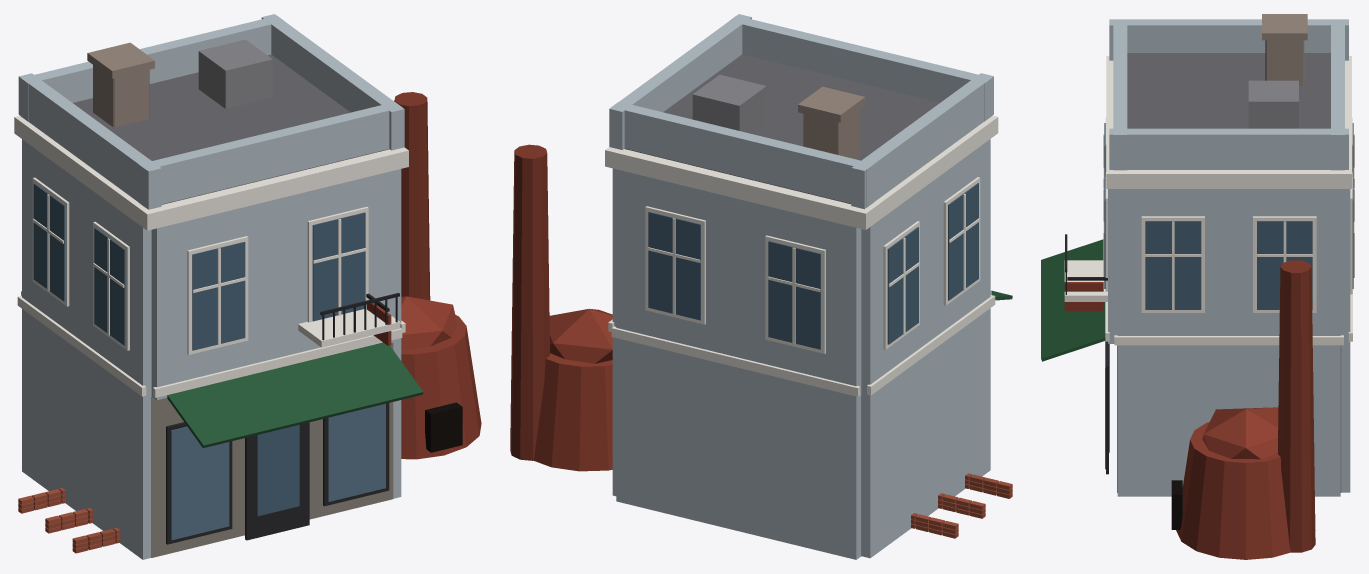
The model's file is brickworks_4.glb.
3 views of the same model, side by side, from view 1: azimuth 30°, elevation 25°; view 2: azimuth 150°, elevation 25°; view 3: azimuth 270°, elevation 25° (orthographic). The views are drawn at different scales.
Visible parts, largest first — view 1: brickworks4_plaster, brickworks4_glass, brickworks4_stone, brickworks4_brick, brickworks4_cloth, brickworks4_wood, brickworks4_iron, brickworks4_soot; view 2: brickworks4_plaster, brickworks4_brick, brickworks4_glass, brickworks4_stone, brickworks4_wood, brickworks4_iron; view 3: brickworks4_plaster, brickworks4_brick, brickworks4_stone, brickworks4_glass, brickworks4_wood, brickworks4_cloth, brickworks4_iron, brickworks4_soot.
Boxes of the visible parts, box(x1,y1,x2,y2) form: brickworks4_plaster: box(18, 14, 404, 559); brickworks4_glass: box(33, 183, 385, 540); brickworks4_stone: box(14, 116, 408, 557); brickworks4_brick: box(18, 42, 481, 553); brickworks4_cloth: box(167, 342, 423, 448); brickworks4_wood: box(32, 177, 391, 544); brickworks4_iron: box(198, 39, 399, 340); brickworks4_soot: box(425, 402, 462, 452); brickworks4_plaster: box(609, 14, 993, 559); brickworks4_brick: box(510, 86, 1012, 538); brickworks4_glass: box(648, 183, 978, 349); brickworks4_stone: box(605, 115, 998, 556); brickworks4_wood: box(645, 177, 980, 353); brickworks4_iron: box(692, 74, 766, 133); brickworks4_plaster: box(1108, 19, 1350, 496); brickworks4_brick: box(1176, 14, 1315, 559); brickworks4_stone: box(1064, 56, 1352, 492); brickworks4_glass: box(1104, 123, 1353, 469); brickworks4_wood: box(1064, 117, 1354, 474); brickworks4_cloth: box(1041, 239, 1105, 361); brickworks4_iron: box(1065, 80, 1298, 294); brickworks4_soot: box(1171, 480, 1182, 529).
Bounding box in the file's own units: 8.47 × 7.67 × 5.63.
